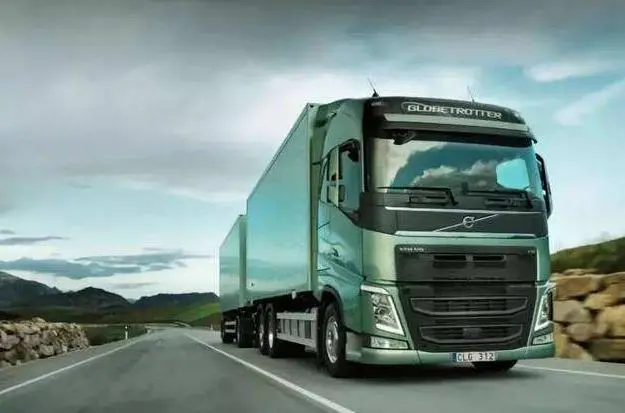bigtruck: (198, 105, 561, 373)
